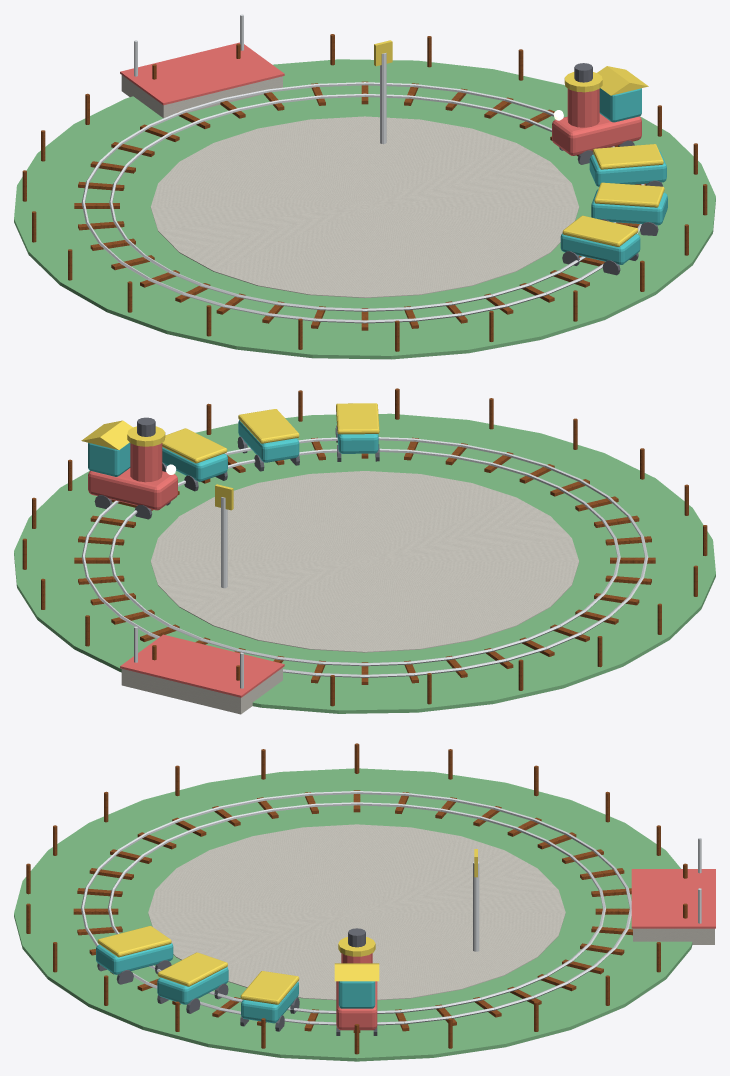
The model's file is theme-park-rides-and-coasters-theme-park-rides-and-coa-318ce404__28663.glb.
The picture shows the model from 3 angles, top to bottom: view 1: azimuth 30°, elevation 25°; view 2: azimuth 150°, elevation 25°; view 3: azimuth 270°, elevation 25°; orthographic projection. The views are drawn at different scales.
Visible parts, largest first — view 1: theme-park-rides-and-coasters-kiddie-train-ride, train/yellow, train/teal, train/red, train/charcoal; view 2: theme-park-rides-and-coasters-kiddie-train-ride, train/yellow, train/teal, train/red, train/charcoal; view 3: theme-park-rides-and-coasters-kiddie-train-ride, train/yellow, train/teal, train/charcoal, train/red.
Boxes of the visible parts, x1,y1,x2,y2 form: theme-park-rides-and-coasters-kiddie-train-ride: (14, 14, 715, 359); train/yellow: (562, 66, 664, 246); train/teal: (560, 88, 667, 264); train/red: (552, 88, 641, 155); train/charcoal: (559, 63, 662, 275); theme-park-rides-and-coasters-kiddie-train-ride: (14, 388, 715, 714); train/yellow: (81, 403, 379, 463); train/teal: (88, 420, 378, 481); train/red: (88, 443, 177, 510); train/charcoal: (94, 417, 379, 519); theme-park-rides-and-coasters-kiddie-train-ride: (14, 743, 715, 1061); train/yellow: (97, 926, 379, 1004); train/teal: (96, 943, 375, 1023); train/charcoal: (97, 928, 377, 1035); train/red: (336, 953, 377, 1030).
Bounding box in the file's own units: 18.4 × 3 × 18.83.
9 materials, 2 textured.
